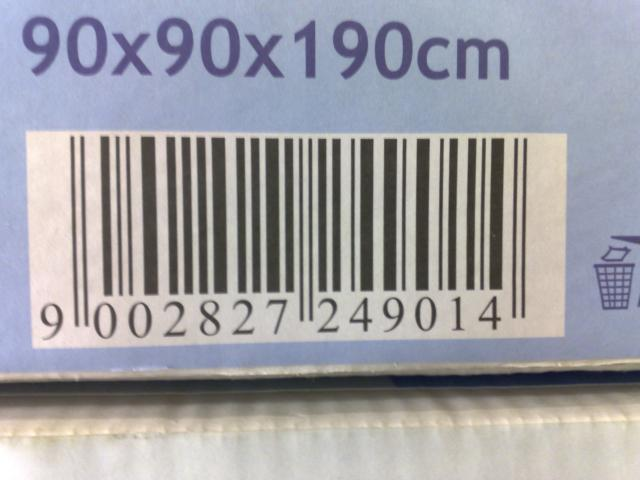Barcode: (24, 128, 567, 349)
